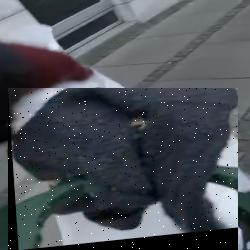restaffald: (8, 88, 238, 250)
